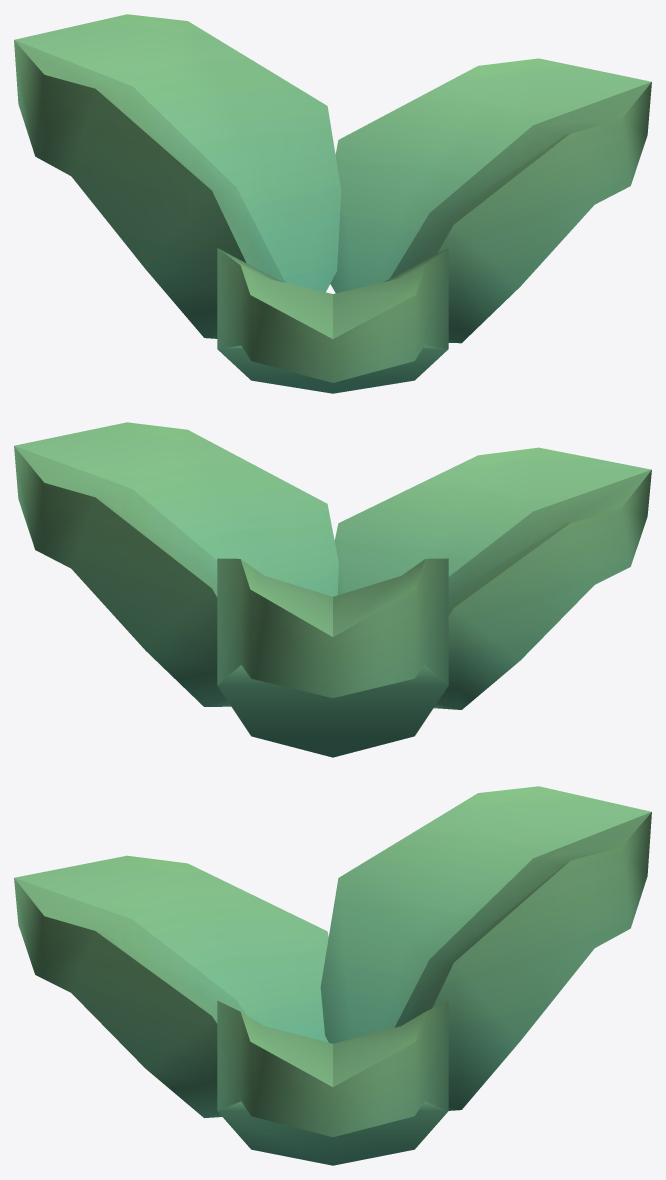
The model's file is plant.glb.
3 renders of one model, top to bottom at view 1: azimuth 30°, elevation 25°; view 2: azimuth 150°, elevation 25°; view 3: azimuth 270°, elevation 25°, orthographic.
Parts seen in each view (by area): view 1: plant; view 2: plant; view 3: plant.
Part boxes in pixels (x1,y1,x2,y2): plant: (14,14,651,393); plant: (14,422,651,757); plant: (14,786,651,1165).
Size of the model in its own units: 0.3964 by 0.1919 by 0.4305.
1 material, 1 textured.
